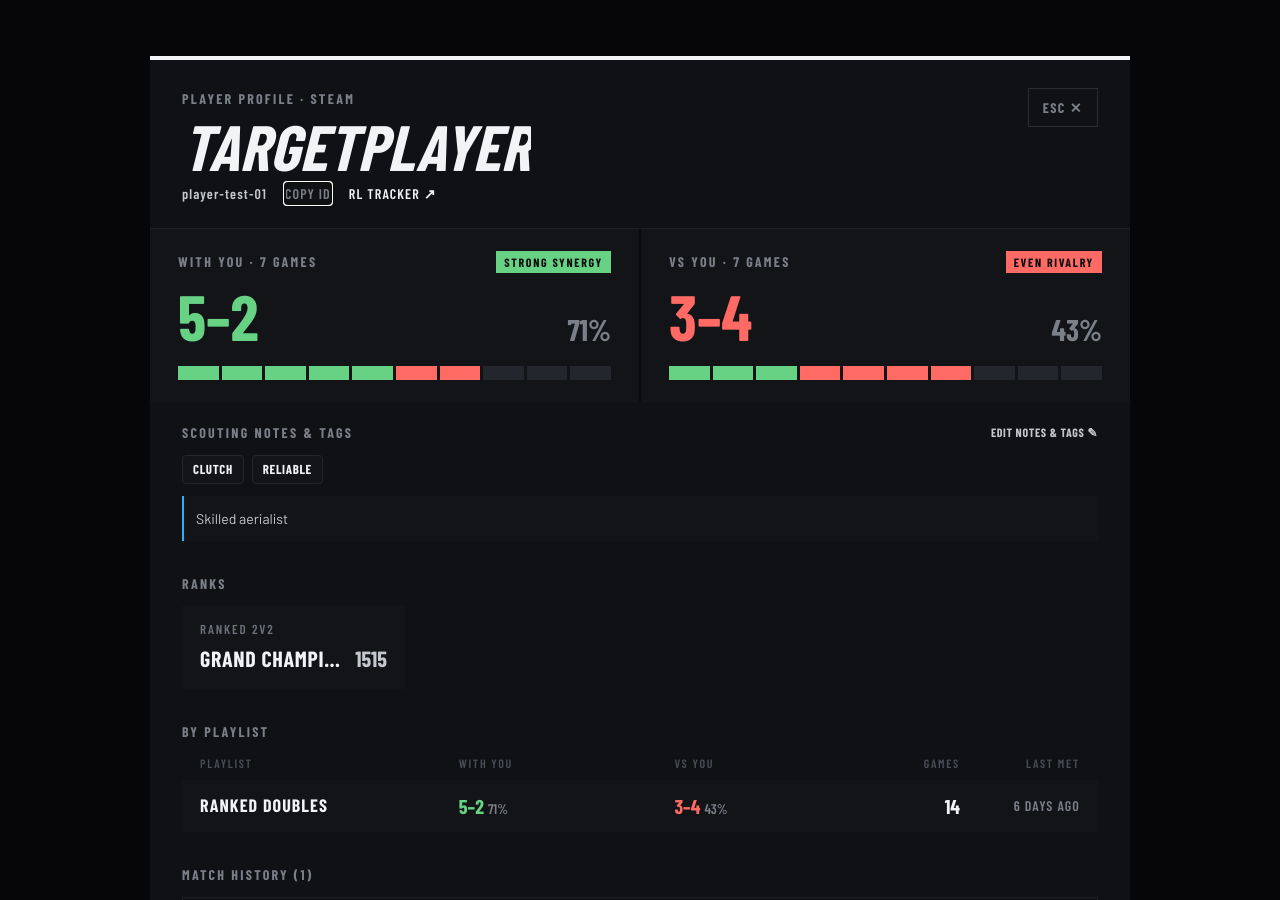
Test: PlayerProfileDialog › opens and interacts with notes modal
The image size is (1280, 900).
Click the button "EDIT NOTES & TAGS ✎" at x=1044, y=432, box [991, 423, 1098, 441]
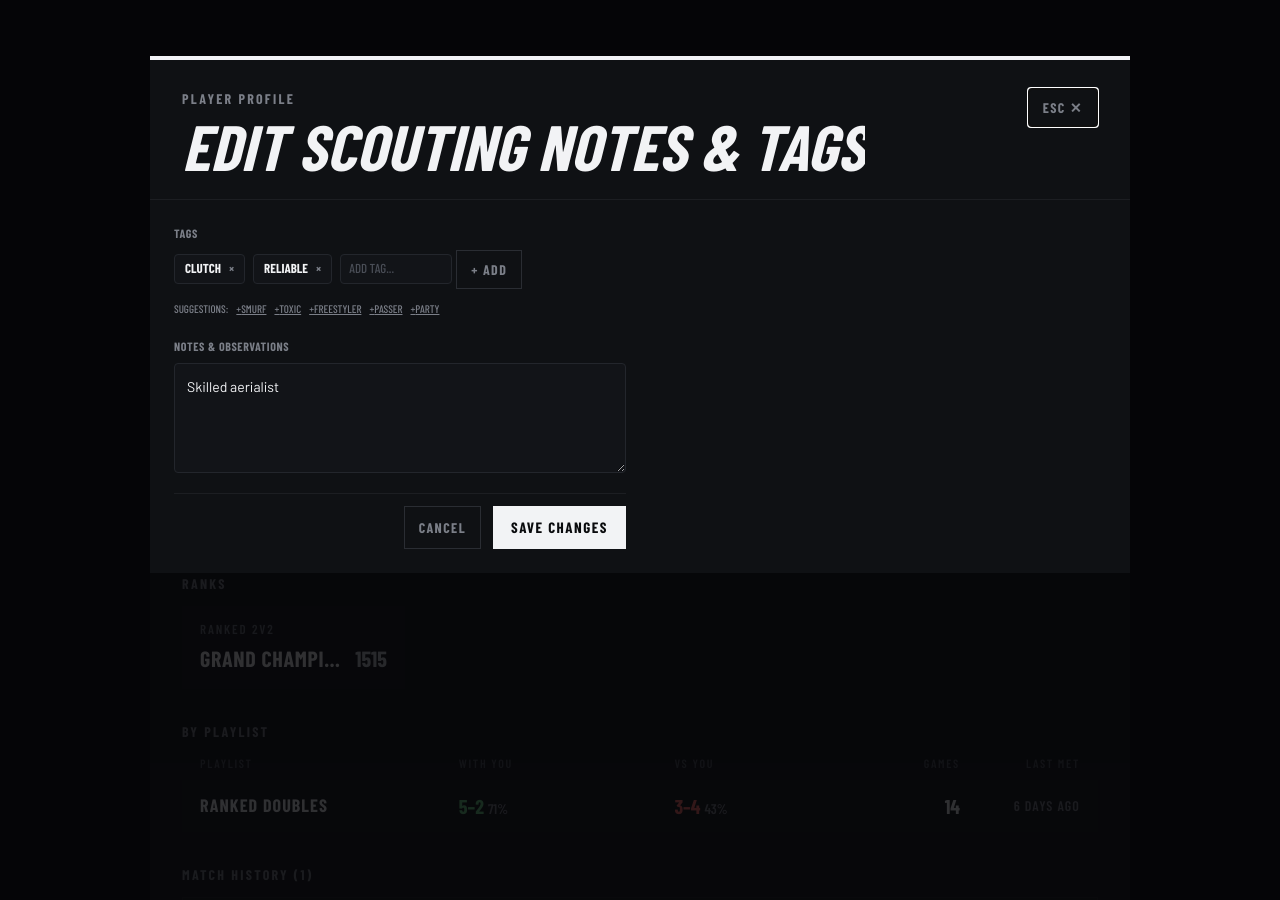
Now the text "EDIT SCOUTING NOTES & TAGS" is shown, box [182, 117, 865, 175]
